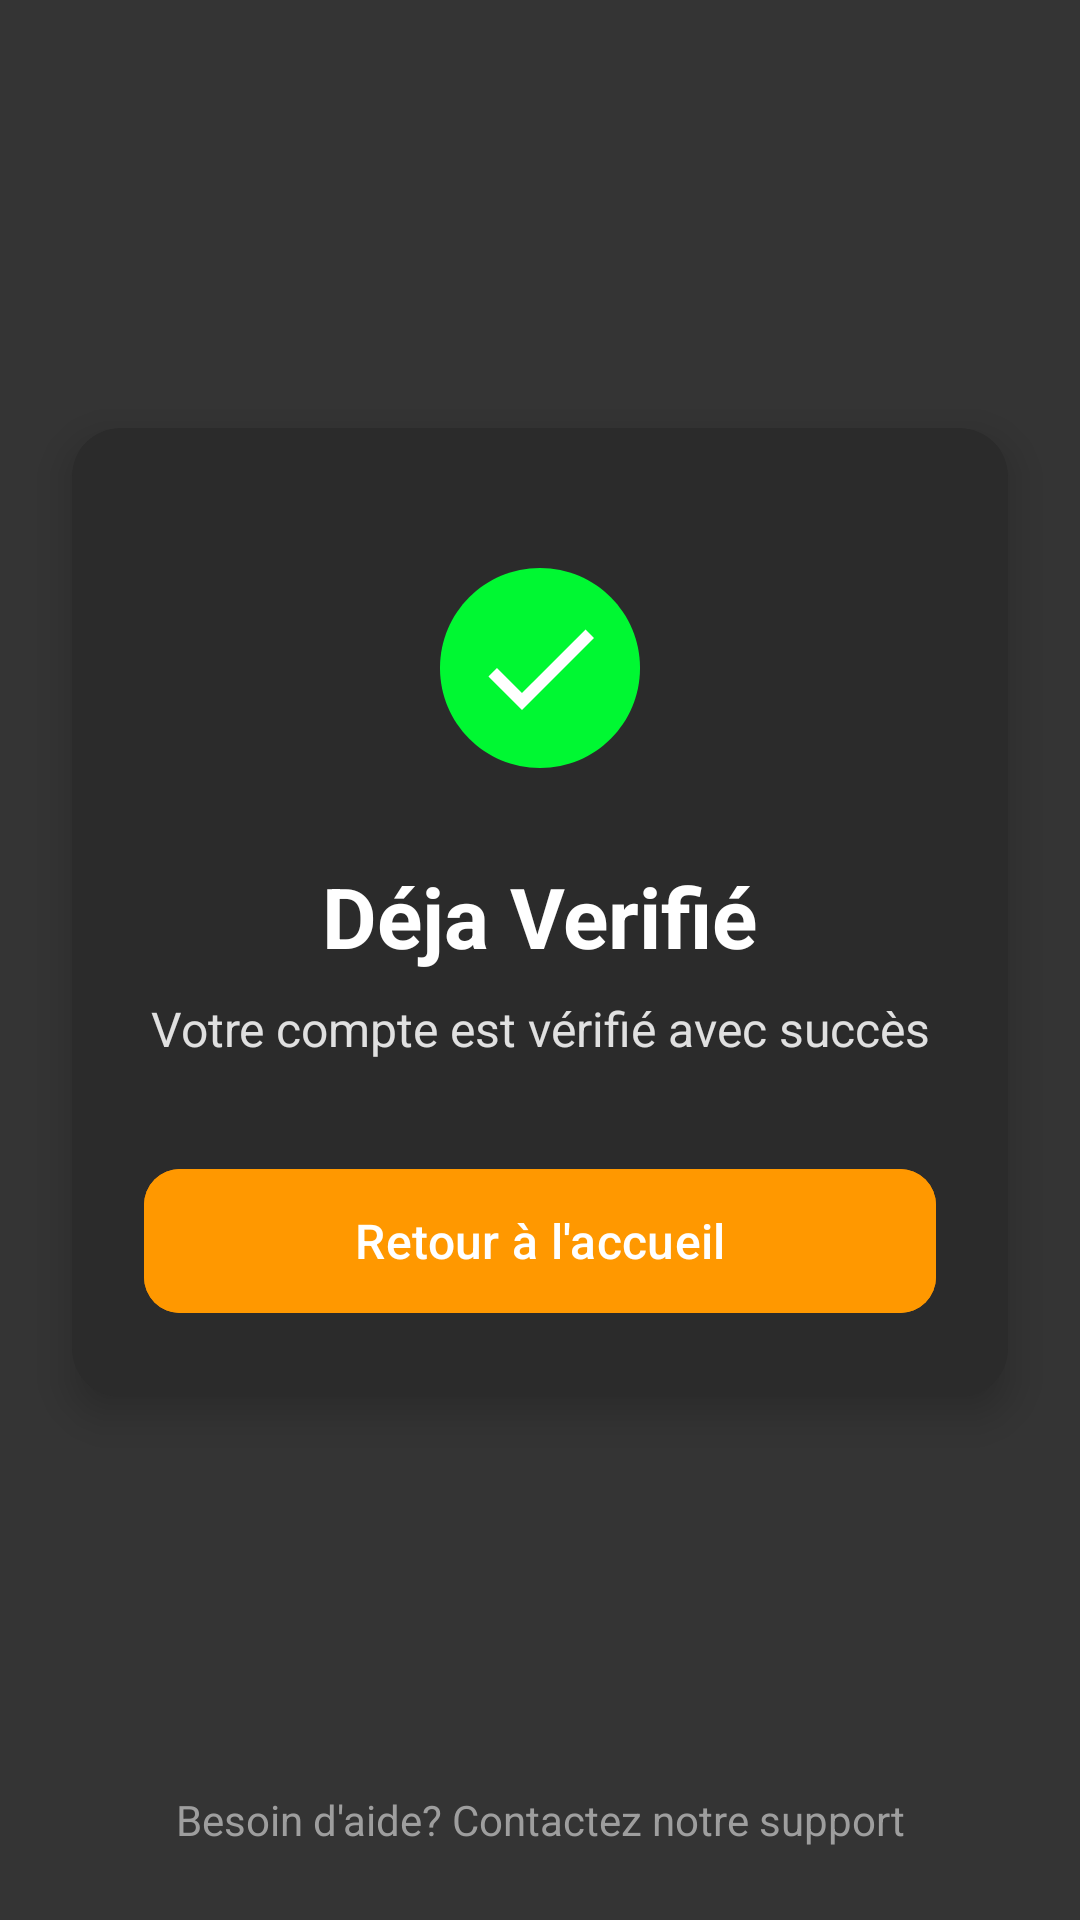

Where icons sit on this 1080x1920 app screen, as [left=x1, top=y1, right=x2, bottom=y2]:
Success icon: [left=440, top=568, right=640, bottom=768]
